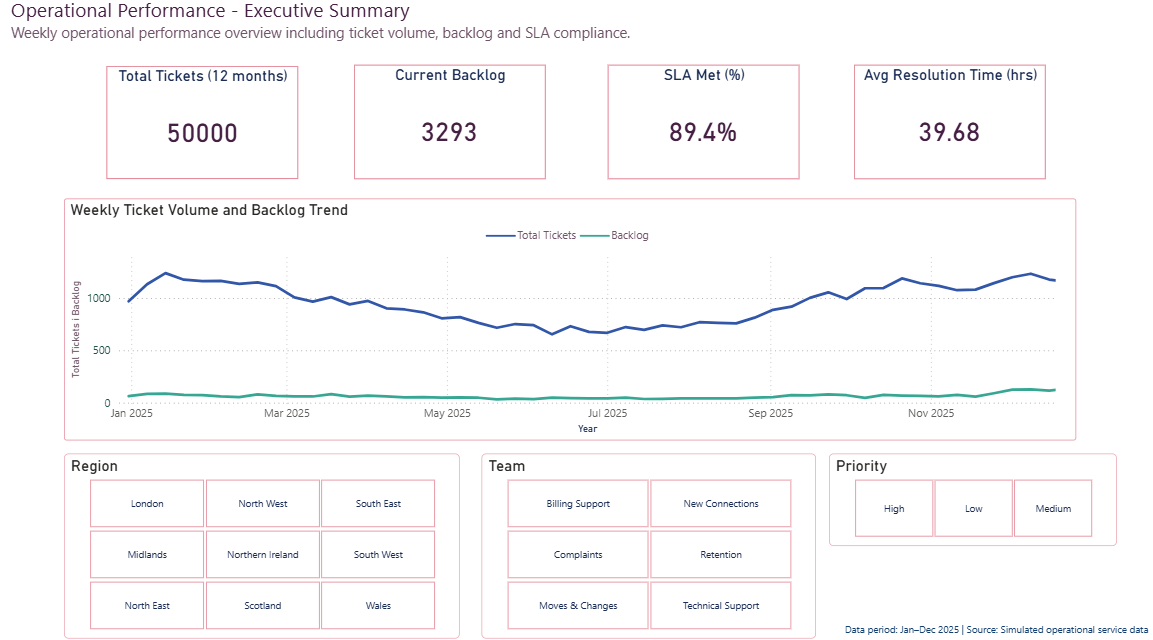

The dashboard page shown, as its layout file describes it:
{"tool":"powerbi","page":{"name":"Executive Summary","canvas":[1280,720],"ordinal":0},"visuals":[{"type":"card","title":"Total Tickets (12 months)","fields":{"Values":["teams.Total Tickets"]},"box":[122.9,82.9,210,124.3],"z":0},{"type":"card","title":"Current Backlog","fields":{"Values":["teams.Backlog"]},"box":[395.7,81.4,210,125.7],"z":1000},{"type":"card","title":"SLA Met (%)","fields":{"Values":["teams.SLA %"]},"box":[674.3,81.4,210,125.7],"z":2000},{"type":"card","title":"Avg Resolution Time (hrs)","fields":{"Values":["teams.Avg Resolution (hrs)"]},"box":[944.3,81.4,210,125.7],"z":3000},{"type":"lineChart","title":"Weekly Ticket Volume and Backlog Trend","fields":{"Y":["teams.Total Tickets","teams.Backlog"],"Category":["tickets_2025.created_week_start.Odmiana.Date Hierarchy.Year","tickets_2025.created_week_start.Odmiana.Date Hierarchy.Quarter","tickets_2025.created_week_start.Odmiana.Date Hierarchy.Month","tickets_2025.created_week_start.Odmiana.Date Hierarchy.Day"]},"box":[77.1,227.1,1111.4,265.7],"z":4000},{"type":"slicer","title":"Team","fields":{"Values":["tickets_2025.team"]},"box":[535.7,507.1,367.1,202.9],"z":5000},{"type":"slicer","title":"Region","fields":{"Values":["tickets_2025.region"]},"box":[77.1,507.1,434.3,202.9],"z":6000},{"type":"slicer","title":"Priority","fields":{"Values":["tickets_2025.priority"]},"box":[917.1,507.1,315.7,101.4],"z":7000},{"type":"textbox","box":[13.3,0,707.8,64.4],"z":8000},{"type":"textbox","box":[928.6,685.7,351.4,34.3],"z":9000}]}

Visuals, with their boxes in screenshot pixels (x1, y1, x2, y2), scaled from the page's 1280x720 canvas onto the 1153x640 screenshot:
"Total Tickets (12 months)" card: (left=111, top=74, right=300, bottom=184)
"Current Backlog" card: (left=356, top=72, right=546, bottom=184)
"SLA Met (%)" card: (left=607, top=72, right=797, bottom=184)
"Avg Resolution Time (hrs)" card: (left=851, top=72, right=1040, bottom=184)
"Weekly Ticket Volume and Backlog Trend" lineChart: (left=69, top=202, right=1071, bottom=438)
"Team" slicer: (left=483, top=451, right=813, bottom=631)
"Region" slicer: (left=69, top=451, right=461, bottom=631)
"Priority" slicer: (left=826, top=451, right=1110, bottom=541)
textbox: (left=12, top=0, right=650, bottom=57)
textbox: (left=836, top=610, right=1152, bottom=639)
